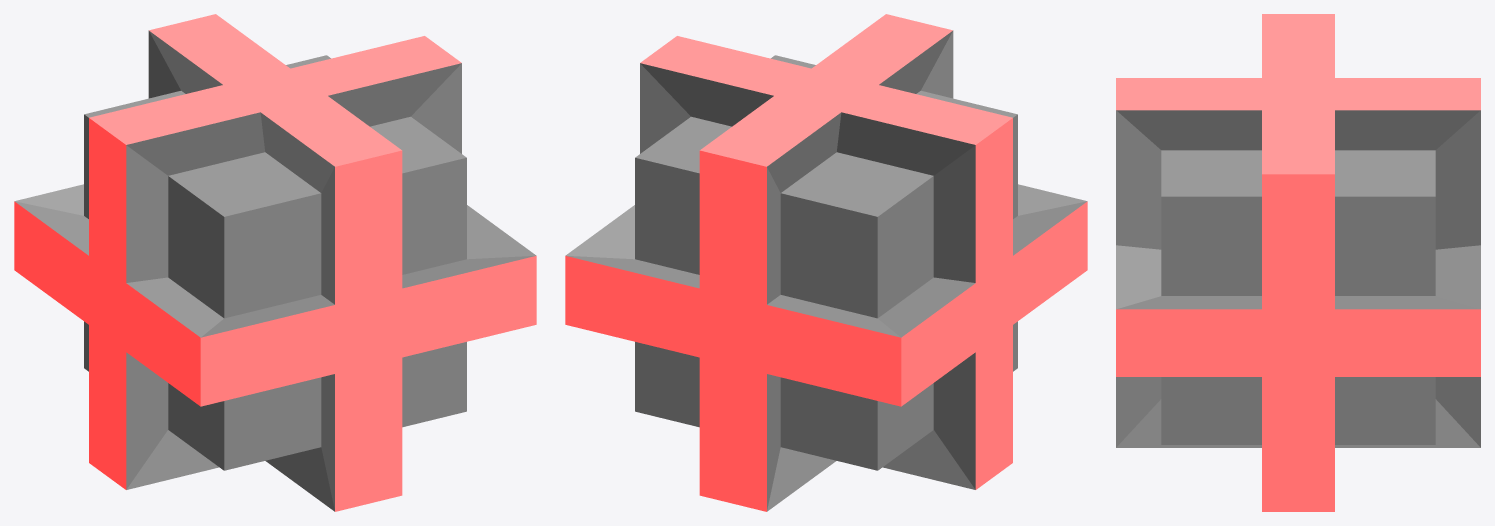
File: pickup_health_roberto.fbx
3 renders of one model, left to right at view 1: azimuth 30°, elevation 25°; view 2: azimuth 150°, elevation 25°; view 3: azimuth 270°, elevation 25°, orthographic. The views are drawn at different scales.
Visible parts, largest first — view 1: pCube54; view 2: pCube54; view 3: pCube54.
Part boxes in pixels (bbox=[...]): pCube54: bbox=[14, 14, 536, 511]; pCube54: bbox=[565, 14, 1087, 511]; pCube54: bbox=[1116, 14, 1480, 511].
Bounding box in the file's own units: 1.38 × 1.36 × 1.33.
